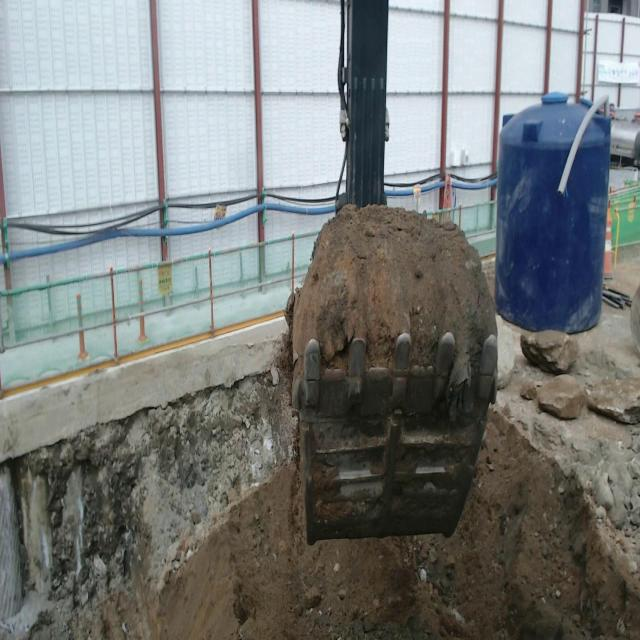red-sand: (70, 411, 640, 639), (292, 204, 497, 412)
stone: (520, 331, 579, 374), (586, 379, 640, 424), (536, 375, 587, 419), (496, 316, 515, 388)
